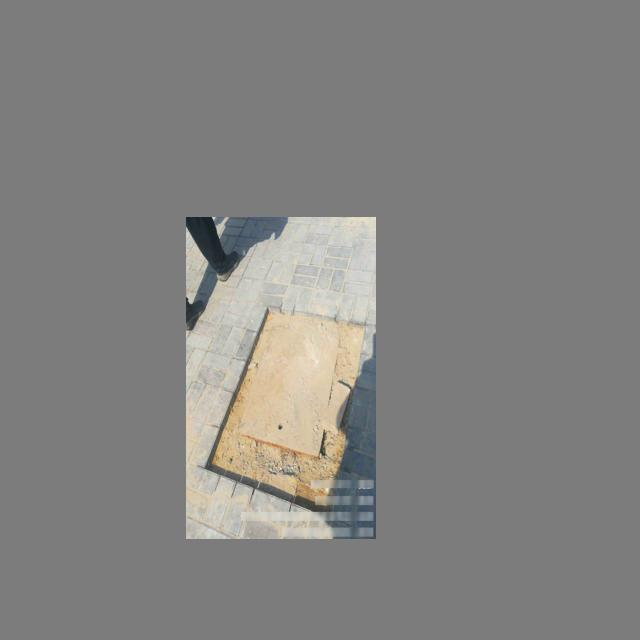circle: (208, 315, 366, 488)
